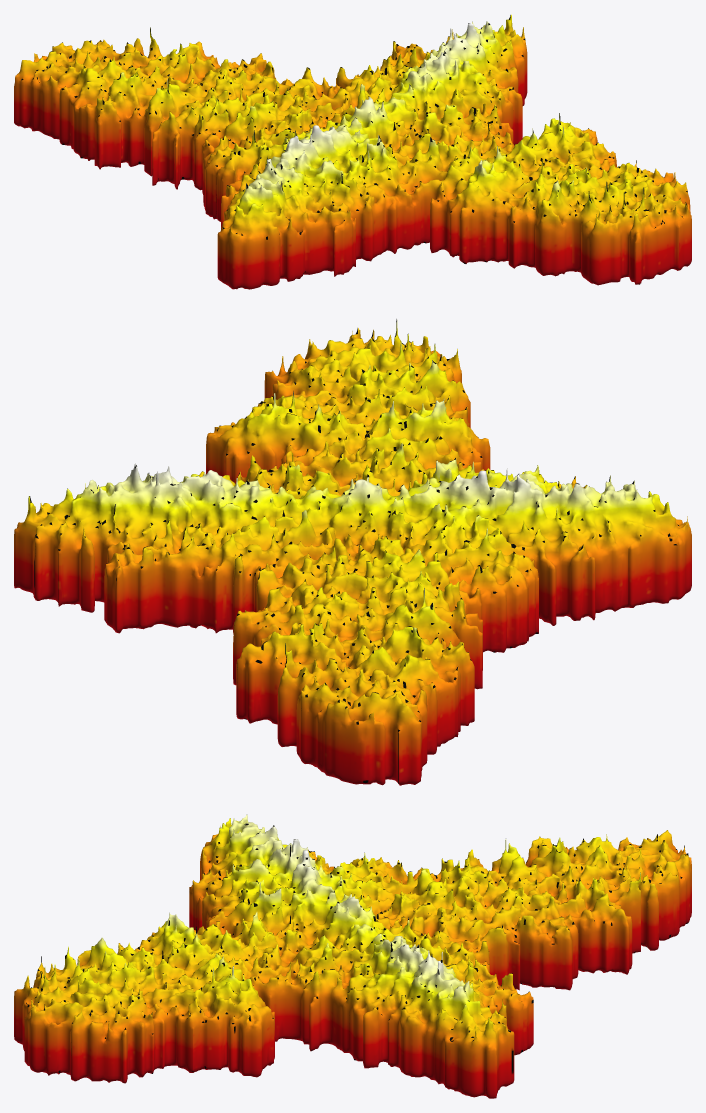
Rendered from BMesh_Dendrite_Assembly_Mk2.gltf.
3 renders of one model, top to bottom at view 1: azimuth 30°, elevation 25°; view 2: azimuth 150°, elevation 25°; view 3: azimuth 270°, elevation 25°, orthographic. The views are drawn at different scales.
Parts seen in each view (by area): view 1: Dendrite.022; view 2: Dendrite.022; view 3: Dendrite.022.
Boxes of the visible parts, bbox=[...] form: Dendrite.022: bbox=[14, 14, 691, 289]; Dendrite.022: bbox=[14, 319, 691, 785]; Dendrite.022: bbox=[14, 814, 691, 1098].
Bounding box in the file's own units: 7.44 × 1.68 × 10.07.
Materials: 1 (1 with a texture image).
